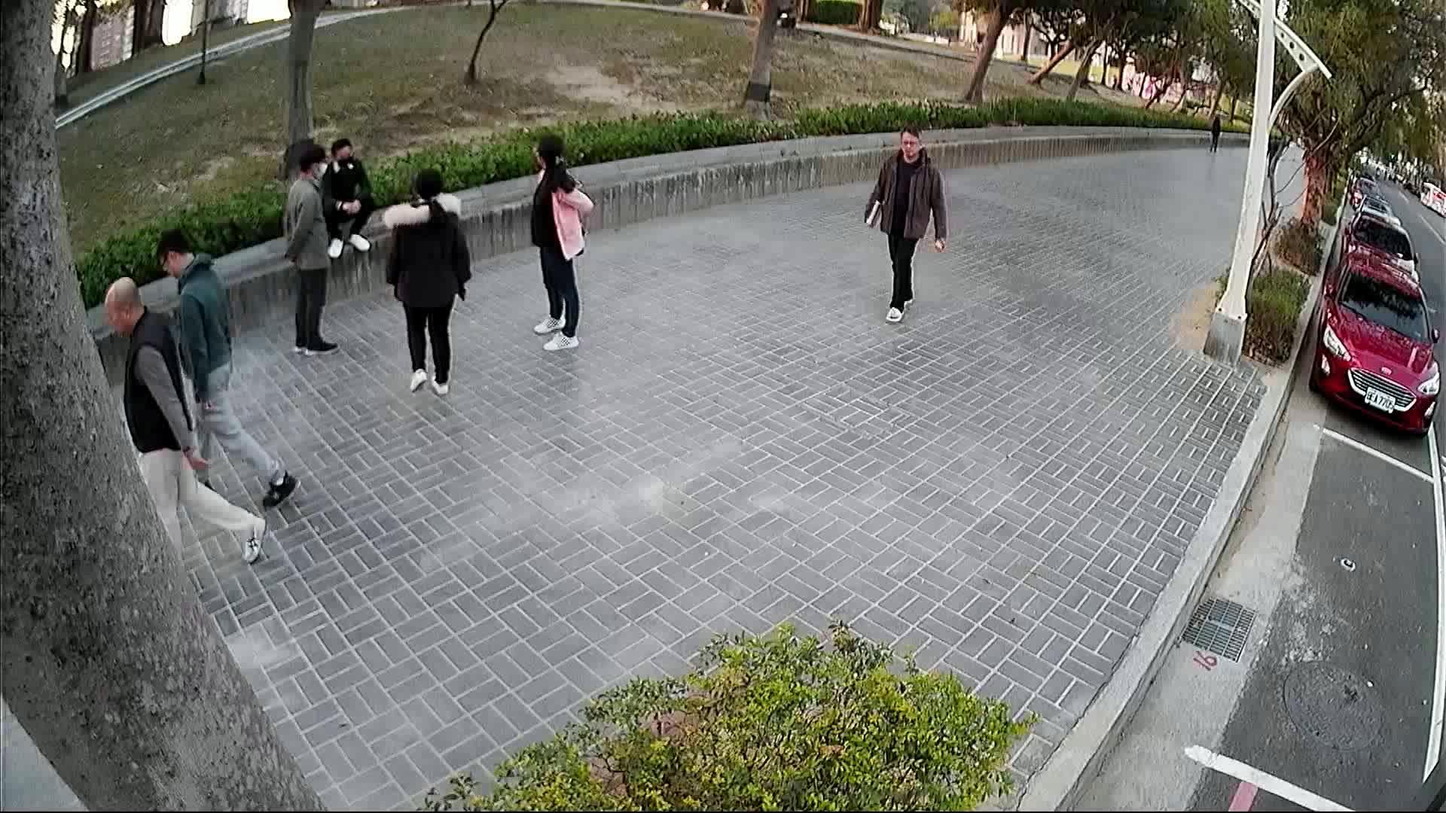person: (98, 266, 271, 577), (149, 219, 304, 514), (371, 166, 477, 398), (851, 123, 950, 329), (521, 127, 596, 359), (268, 136, 343, 365), (318, 127, 381, 260), (1204, 109, 1223, 155)
